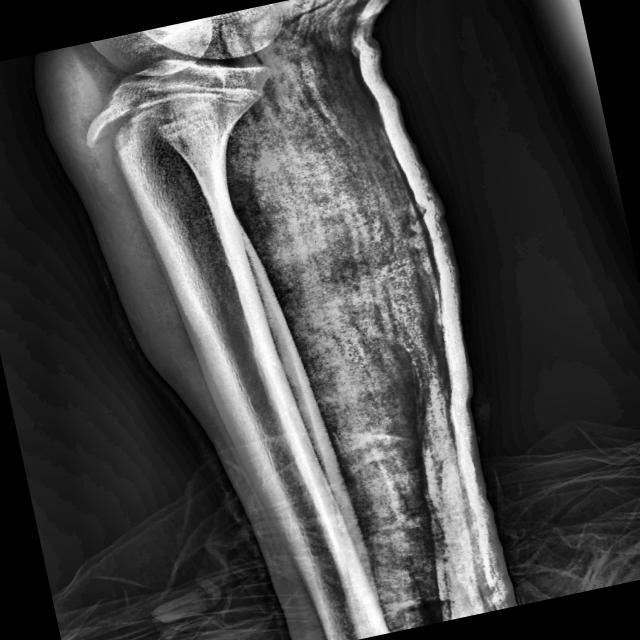Fracture: (73, 76, 250, 164)
